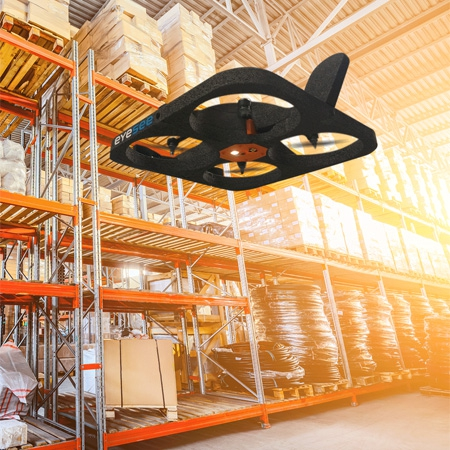drone: (110, 51, 380, 194)
